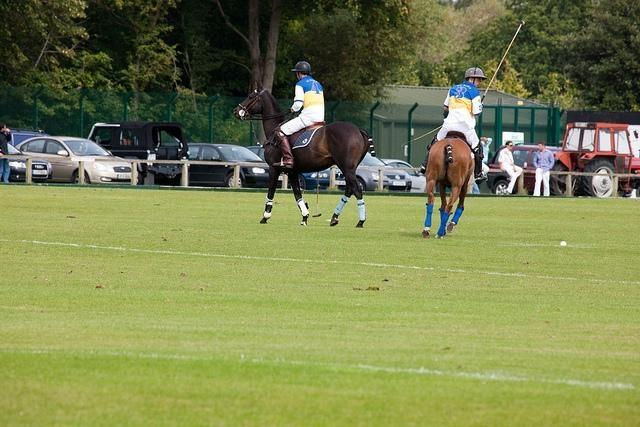car: (18, 134, 138, 185), (89, 119, 190, 177), (187, 142, 283, 188), (252, 148, 346, 188), (486, 140, 540, 195), (356, 152, 412, 192), (381, 158, 426, 192), (7, 143, 49, 179), (12, 128, 37, 150)
truck: (551, 121, 640, 196)
